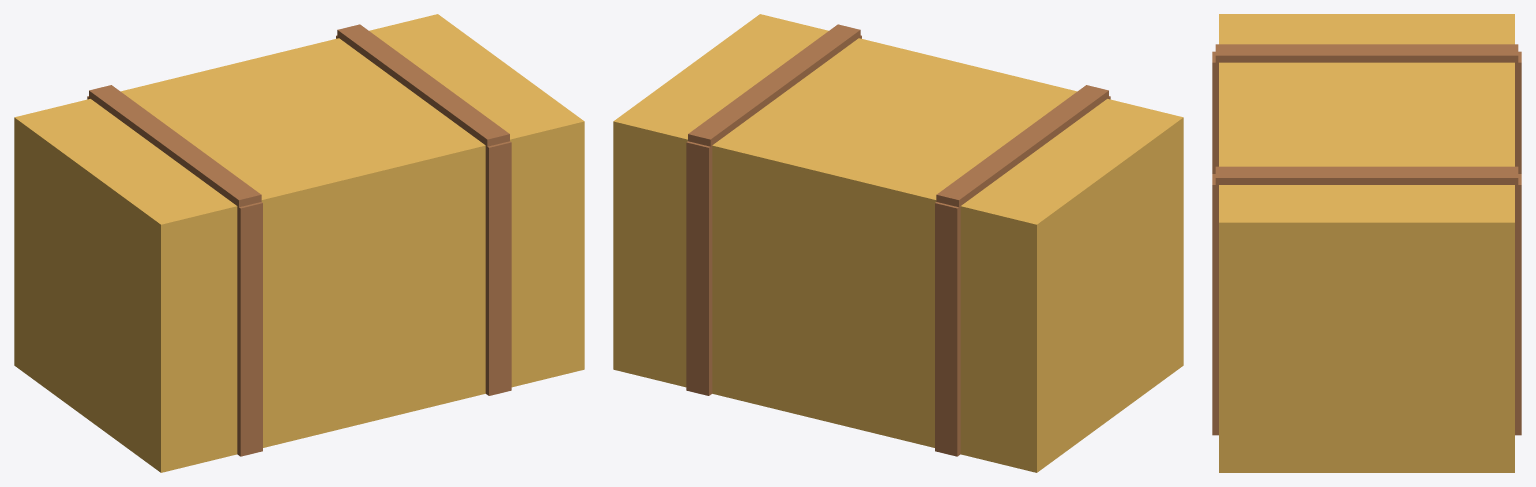
Rendered from turning-seasons-hay-bale-609b47c0__2145.glb.
3 views of the same model, side by side, from view 1: azimuth 30°, elevation 25°; view 2: azimuth 150°, elevation 25°; view 3: azimuth 270°, elevation 25° (orthographic).
Parts seen in each view (by area): view 1: hay-bale; view 2: hay-bale; view 3: hay-bale.
Part boxes in pixels (x1,y1,x2,y2): hay-bale: (14, 14, 584, 472); hay-bale: (613, 14, 1183, 472); hay-bale: (1212, 14, 1521, 472).
Size of the model in its own units: 0.75 by 0.432 by 0.47.
